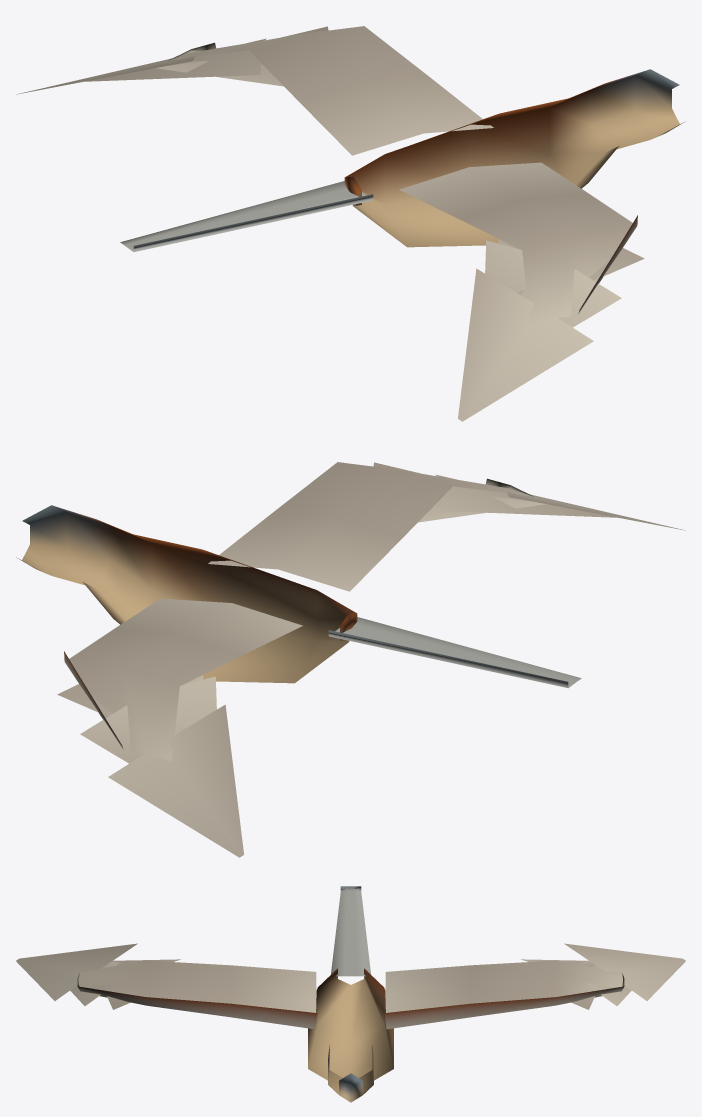
File: SM_Bird_kestrel_flap3_LOD2.glb
The picture shows the model from 3 angles, top to bottom: view 1: azimuth 30°, elevation 25°; view 2: azimuth 150°, elevation 25°; view 3: azimuth 270°, elevation 25°; orthographic projection. The views are drawn at different scales.
Visible parts, largest first — view 1: SM_Bird_kestrel_flap3_LOD2; view 2: SM_Bird_kestrel_flap3_LOD2; view 3: SM_Bird_kestrel_flap3_LOD2.
Part boxes in pixels (left/top/right/bottom): SM_Bird_kestrel_flap3_LOD2: left=16, top=26, right=685, bottom=421; SM_Bird_kestrel_flap3_LOD2: left=16, top=462, right=685, bottom=857; SM_Bird_kestrel_flap3_LOD2: left=16, top=886, right=685, bottom=1102.
Size of the model in its own units: 0.3642 by 0.0873 by 0.511.
